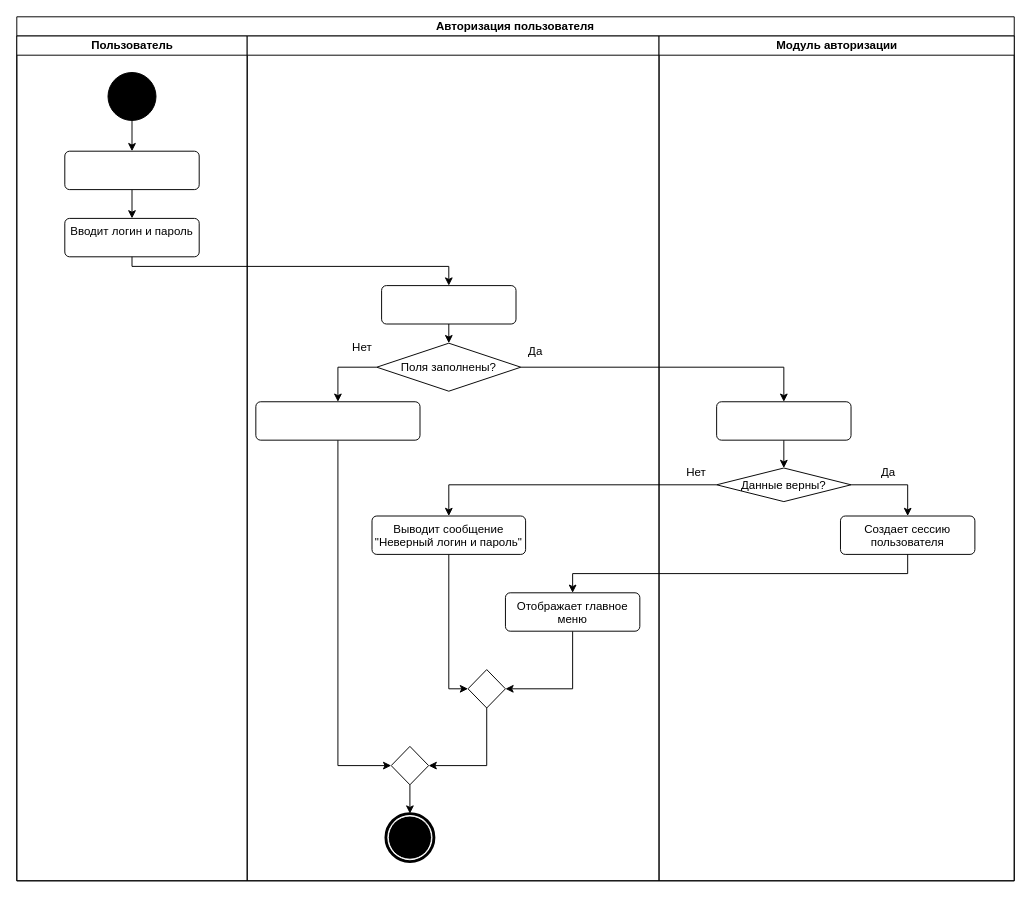
Image size: 1031x898. Some labels were removed from this diagram. Here are the shapes that lost their labels. From the top down, the box of each, then its label:
(64, 150, 199, 190): Открывает систему
(381, 285, 516, 324): Получает введенные данные
(255, 401, 420, 440): Показывает предупреждение "Введите логин и пароль"
(716, 401, 851, 440): Проверяет логин и пароль в БД
(246, 35, 659, 881): Интерфейс системы
